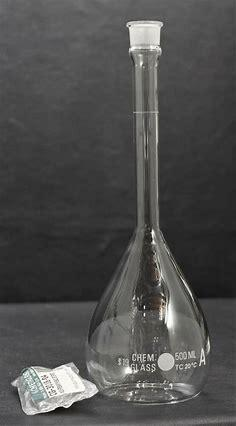Volumetric flask: (81, 25, 214, 404)
